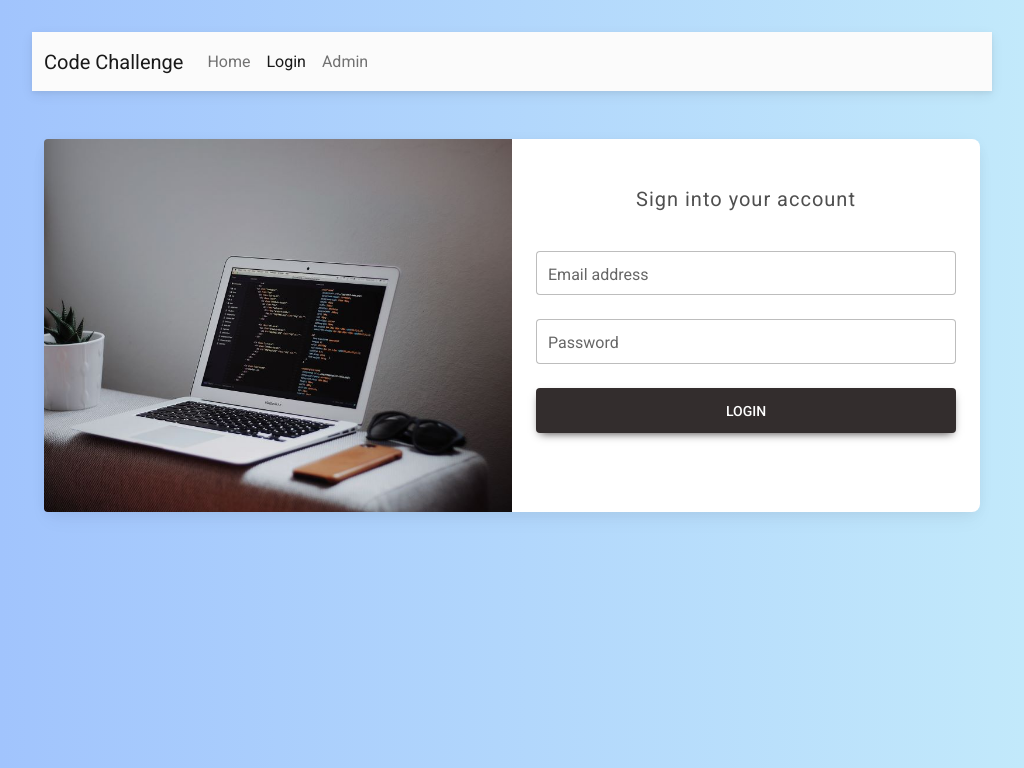
Scenario: When not logged in › it renders admin login page on Admin navigation click
The image size is (1024, 768).
Click the link with test id "admin-login-nav".
click(345, 62)  # box x1=322 y1=52 x2=368 y2=71
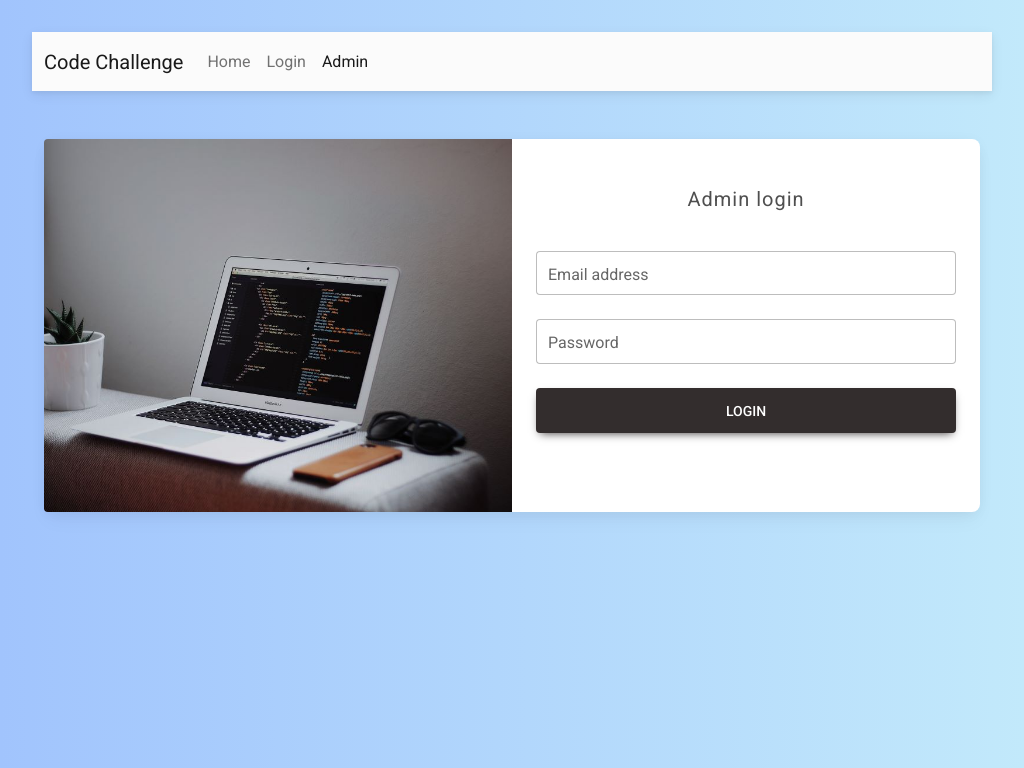
Now the element with test id "admin-login" is shown, box x1=32 y1=139 x2=992 y2=512
